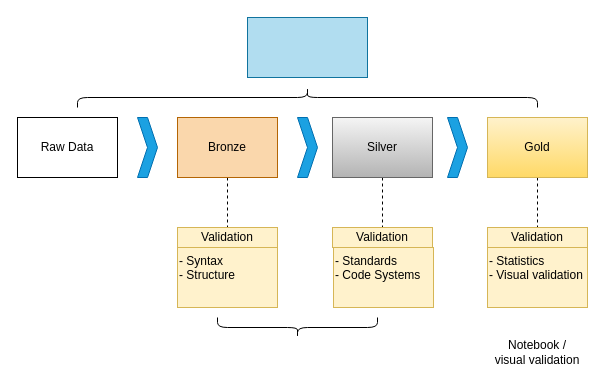
Image size: 605x385. Some labels were removed from this diagram. Each missing label, with the centre of its shape:
"Automated validation" goes at pixel 297 327.
"Data as Software - DevOps" goes at pixel 307 47.
